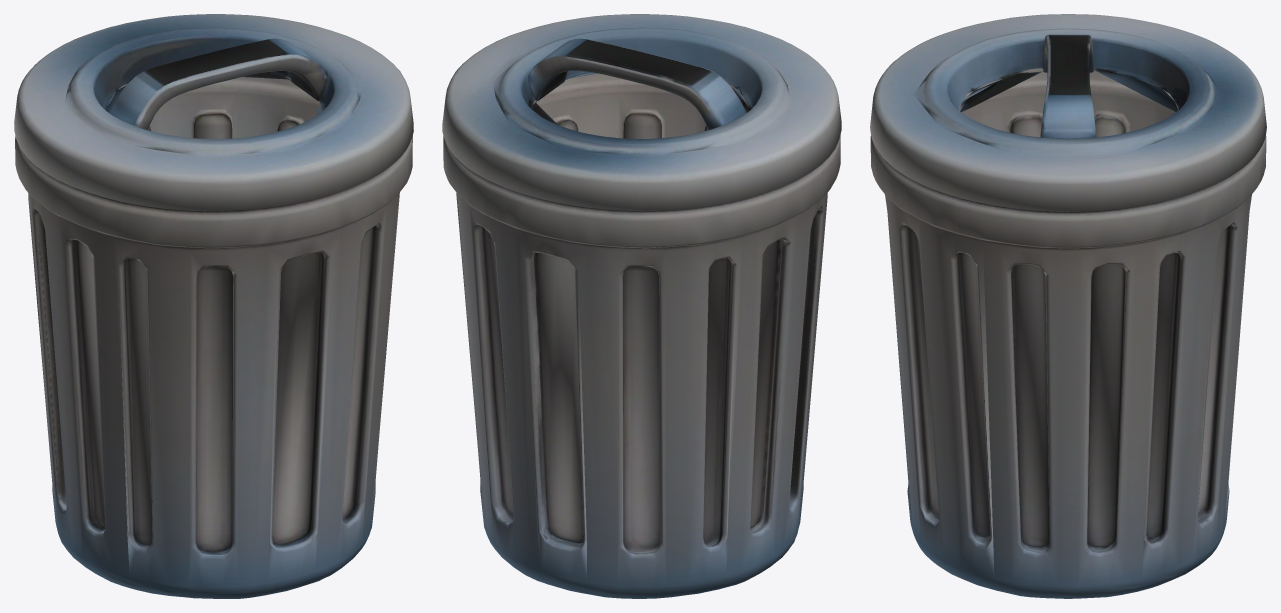
Rendered from garbage_can_6b3d052b_v1.glb.
3 views of the same model, side by side, from view 1: azimuth 30°, elevation 25°; view 2: azimuth 150°, elevation 25°; view 3: azimuth 270°, elevation 25° (orthographic).
Visible parts, largest first — view 1: material; view 2: material; view 3: material.
Boxes of the visible parts, x1,y1,x2,y2 form: material: (14, 14, 413, 598); material: (442, 14, 841, 598); material: (870, 14, 1266, 598).
Bounding box in the file's own units: 1.44 × 1.9 × 1.43.
Materials: 1 (1 with a texture image).
